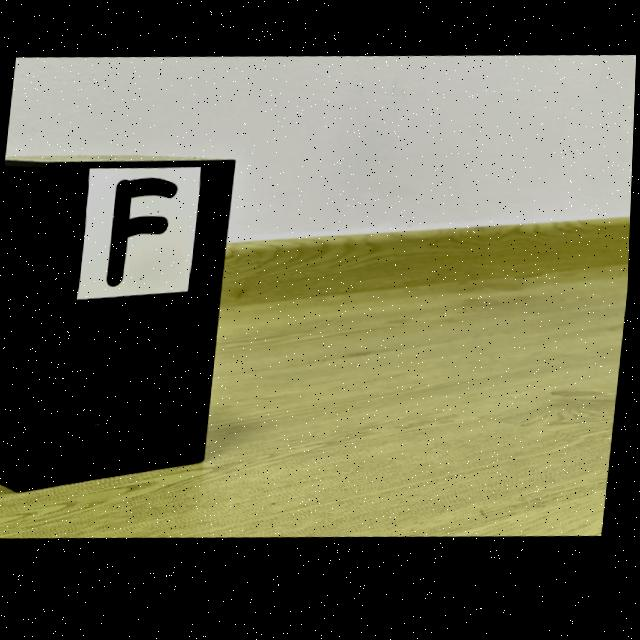F: (108, 180, 178, 288)
